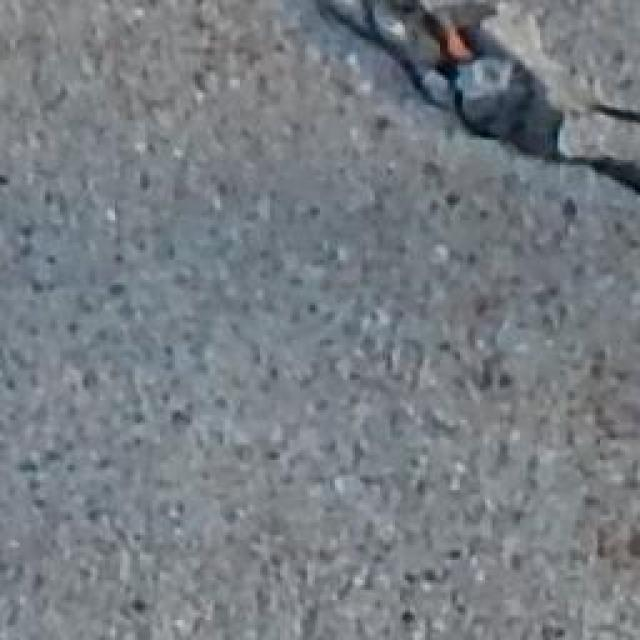concrete-crack: (306, 0, 640, 205)
